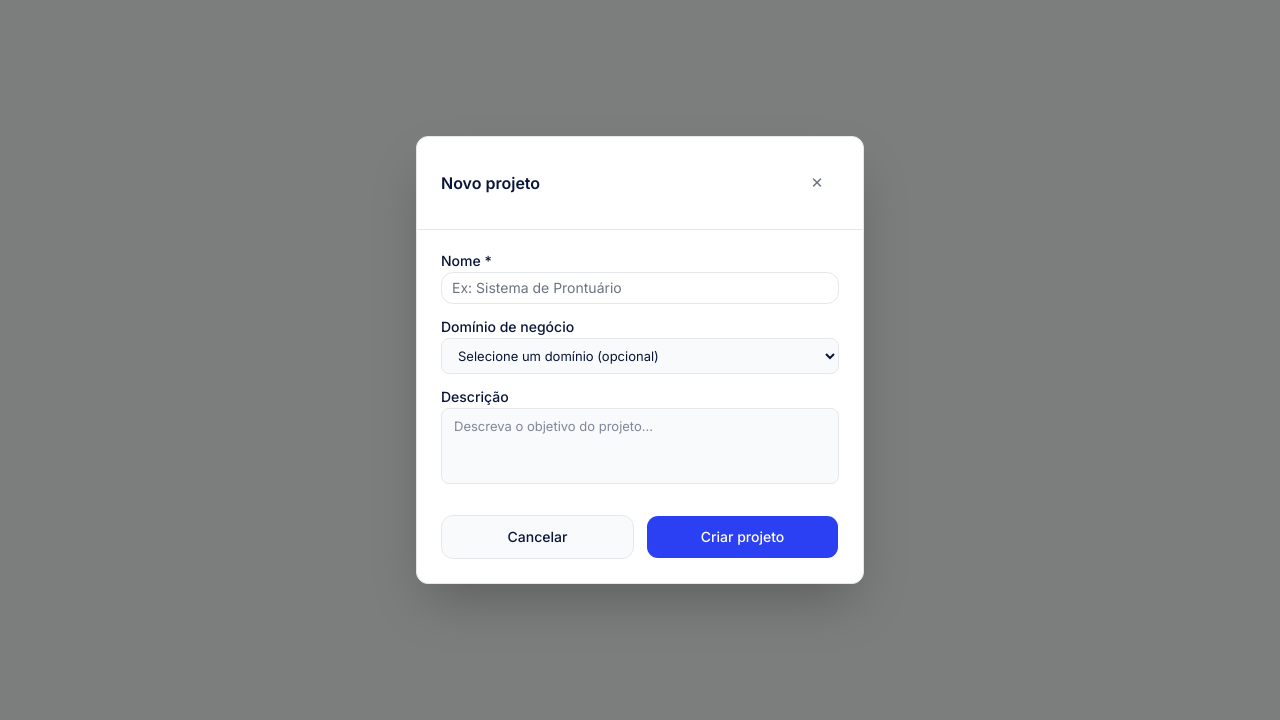
Test: ProjectModal — modo criação › exibe erro da API em banner
The width and height of the screenshot is (1280, 720).
Type "Projeto Erro" into the field labelled "Nome *". click: (640, 288)
box: [441, 272, 839, 304]
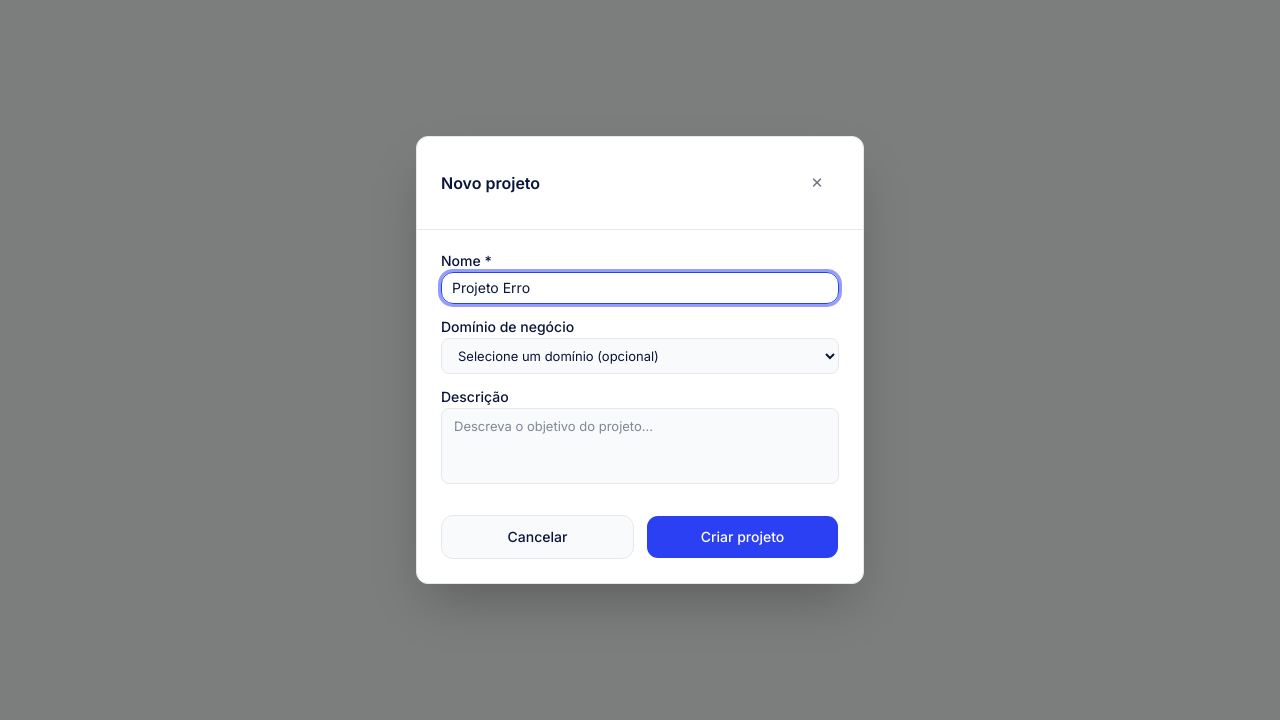
Click the button "Criar projeto". click: (742, 537)
box: [646, 515, 839, 559]
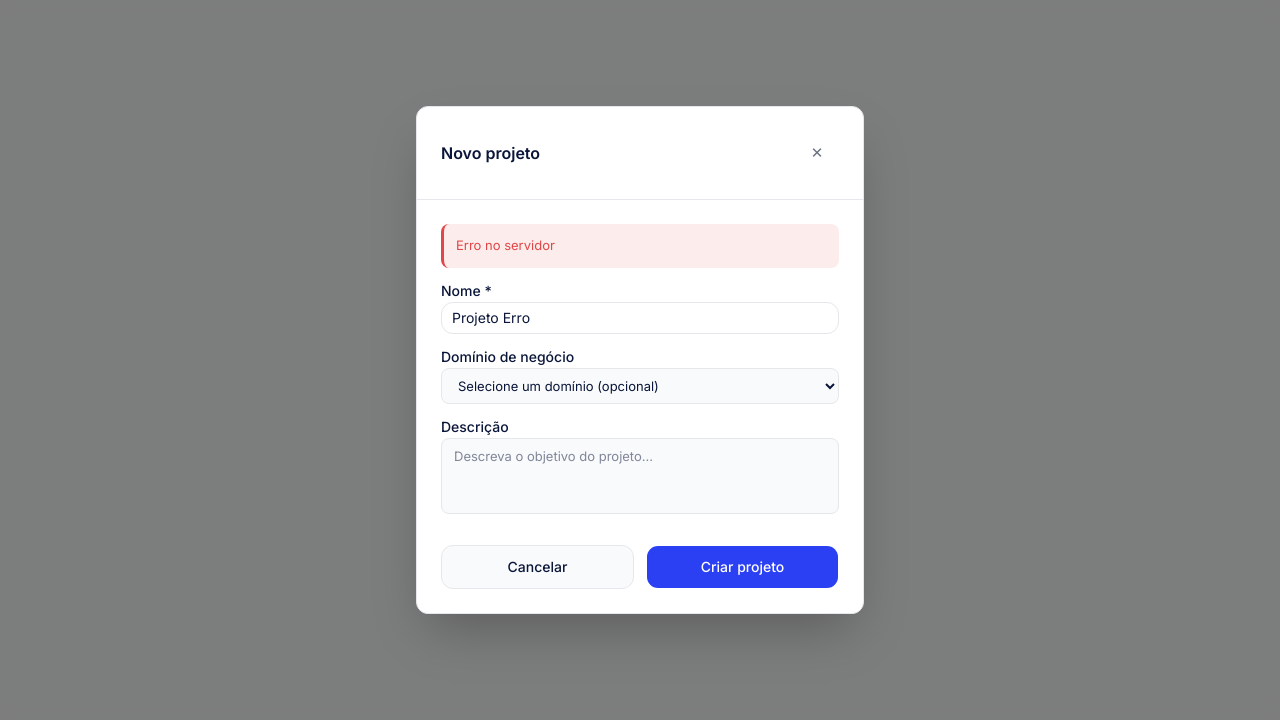
expect the text "Erro no servidor" is shown: met, box [441, 224, 839, 268]
